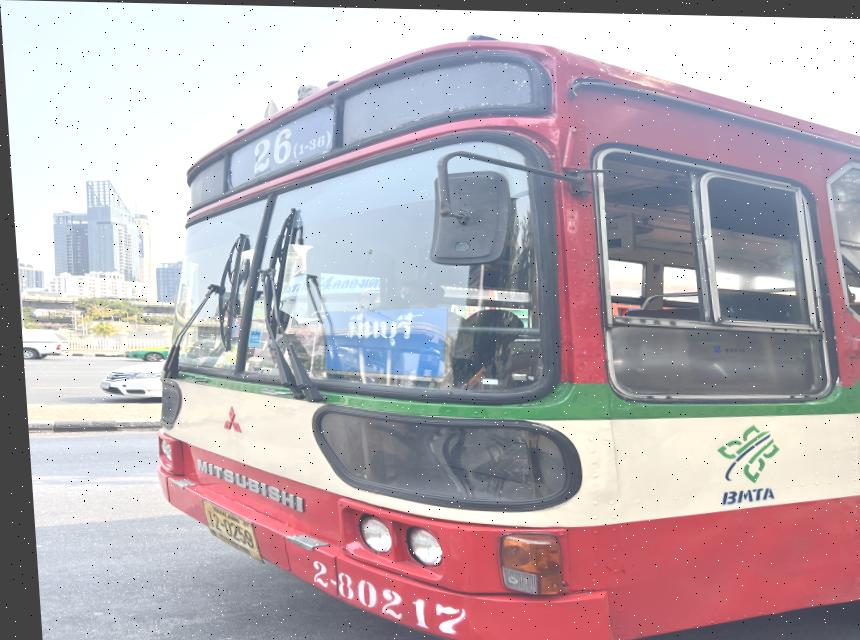BMTA-bus: (149, 34, 860, 640)
Bus Line Number: (229, 99, 333, 188)
Bus Side Number: (293, 545, 482, 640)
Destination Sign: (315, 305, 447, 378)
